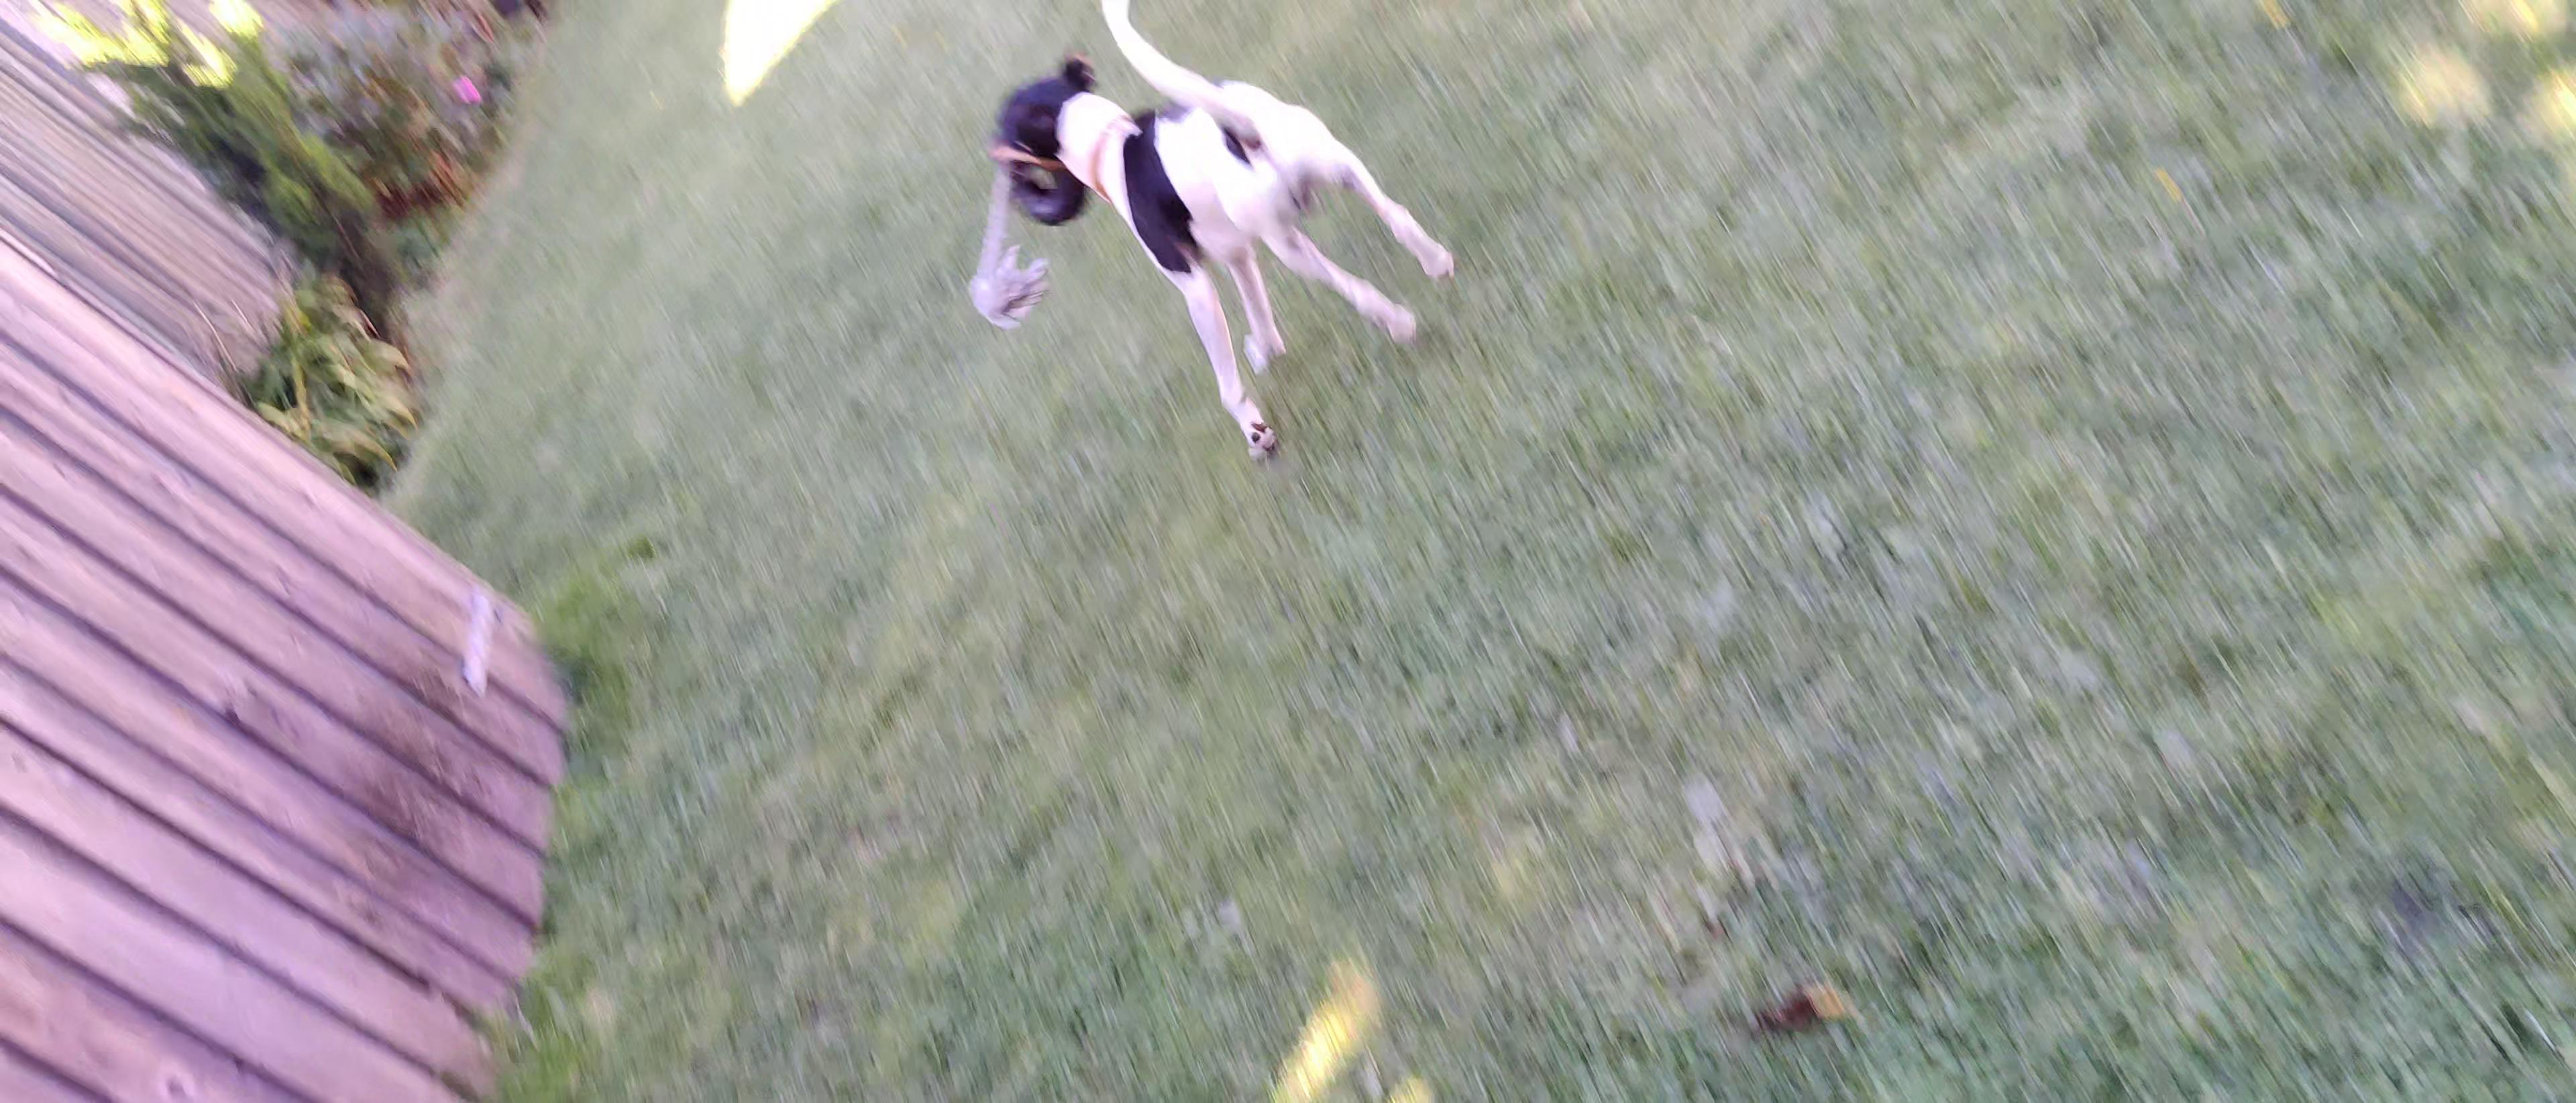Dog: (984, 0, 1477, 477)
